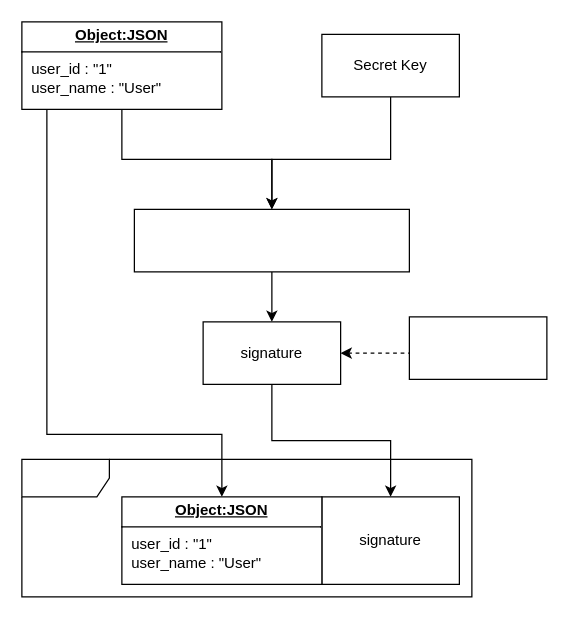
This 573x619 diagram has some shape labels left out. The centre of each missing label's shape, as x and y in pixels:
Attacker has no way of creating this: (477,347)
AuthToken: (246,527)
new hmac(key, msg, hashlib.sha256): (271,240)
